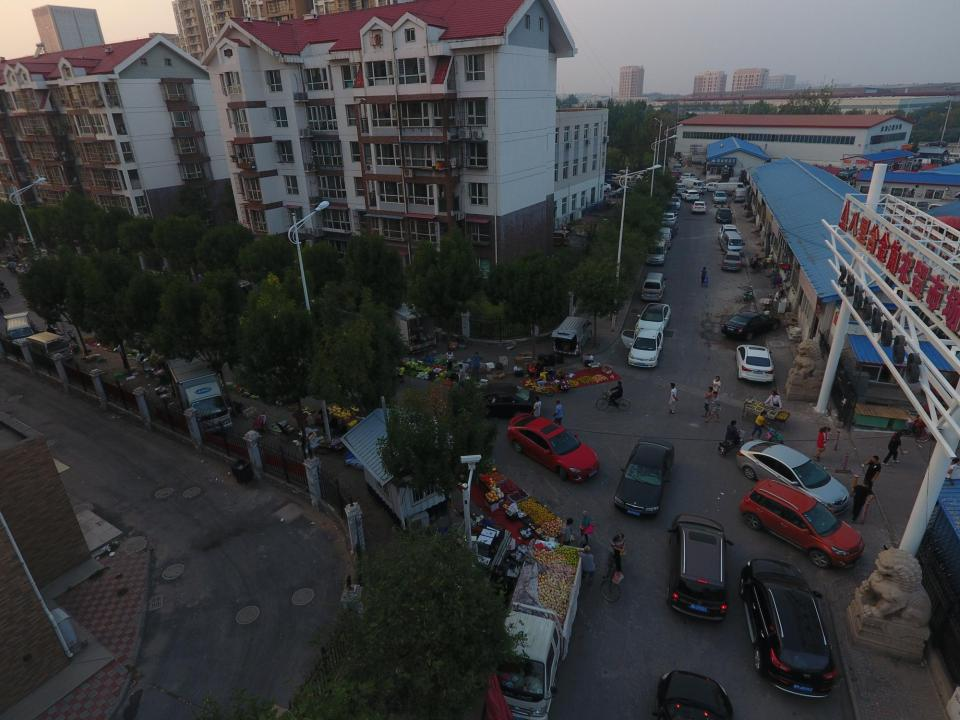car: (739, 559, 840, 701), (740, 478, 865, 570), (736, 438, 850, 523), (669, 512, 729, 625), (507, 413, 600, 485), (613, 436, 675, 522), (646, 668, 741, 720), (447, 382, 539, 418), (722, 311, 779, 343), (735, 344, 777, 383), (627, 328, 664, 368), (636, 303, 672, 337), (645, 239, 667, 267), (721, 250, 741, 273), (718, 225, 740, 243), (715, 207, 733, 224), (609, 187, 637, 197), (680, 189, 700, 202), (665, 195, 681, 210), (692, 200, 708, 214), (712, 190, 728, 204), (660, 212, 676, 226), (601, 179, 622, 189), (670, 182, 686, 195), (680, 172, 698, 182), (593, 182, 611, 192), (705, 183, 724, 192), (926, 140, 947, 148), (668, 170, 681, 180)
truck: (486, 539, 589, 720), (162, 353, 234, 434), (377, 292, 439, 355)
van: (26, 332, 73, 367), (553, 316, 590, 356), (3, 311, 36, 353), (641, 271, 665, 301), (720, 231, 744, 256), (544, 230, 571, 248), (715, 182, 749, 195), (681, 178, 707, 194), (654, 226, 670, 249), (910, 157, 935, 168), (732, 188, 748, 203), (612, 176, 636, 186), (945, 147, 960, 160), (673, 164, 682, 172)
